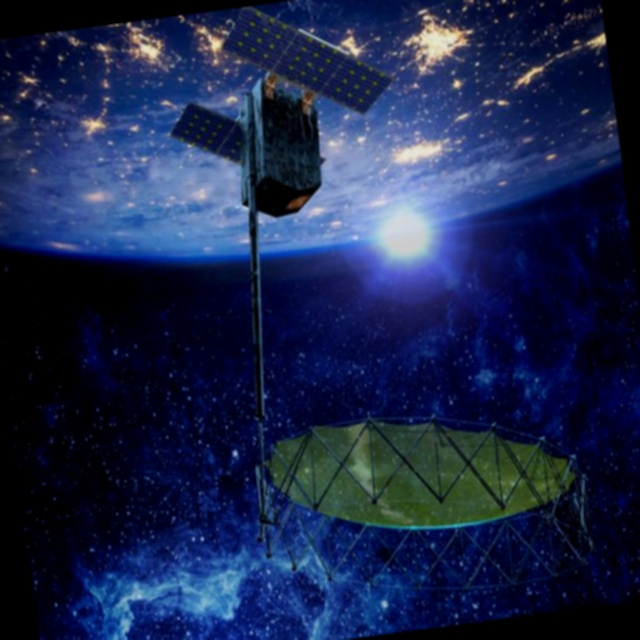satellite: (155, 0, 604, 626)
